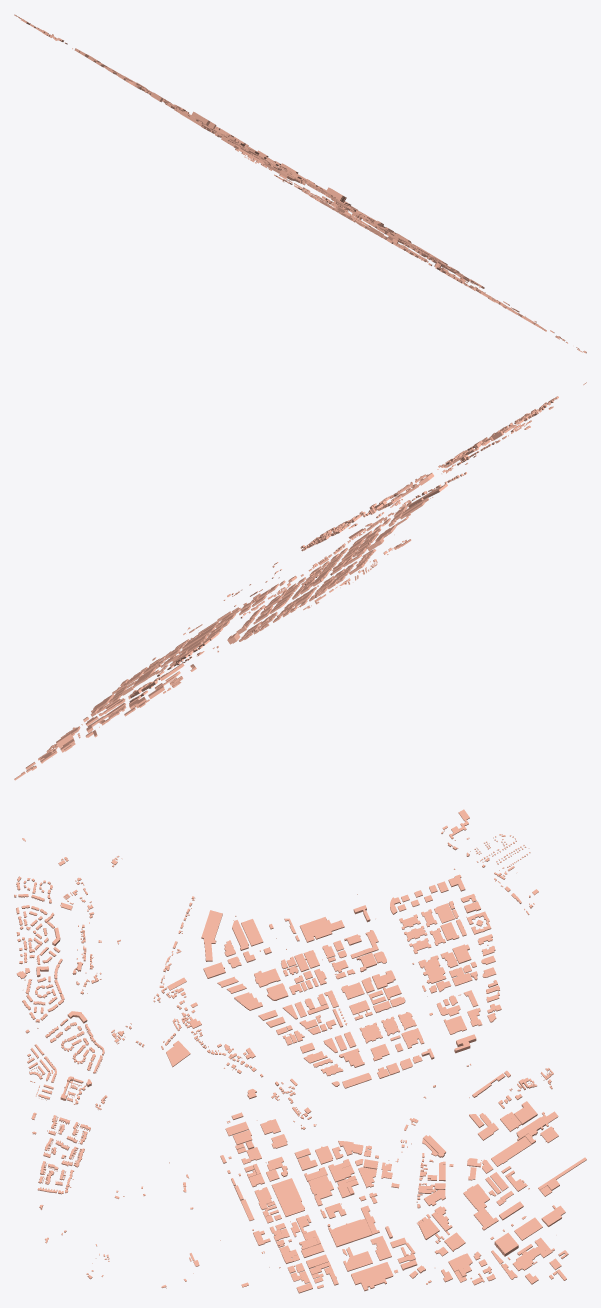
3 renders of one model, top to bottom at view 1: azimuth 30°, elevation 25°; view 2: azimuth 150°, elevation 25°; view 3: azimuth 270°, elevation 25°, orthographic. The views are drawn at different scales.
Bounding box in the file's own units: 2012 × 1521 × 2629.
